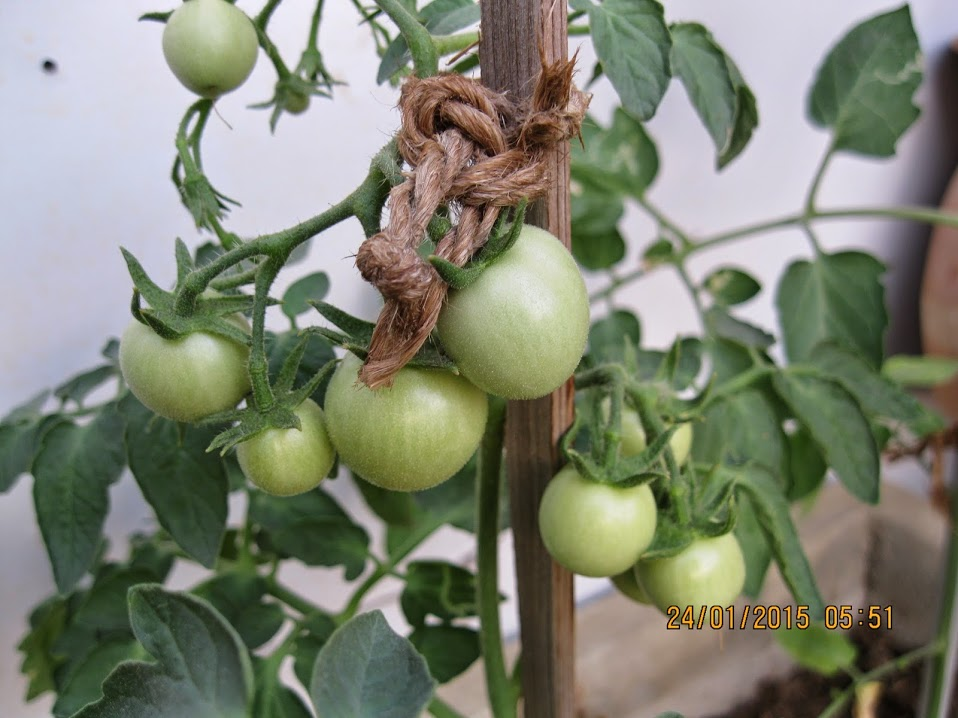tomato: (427, 216, 606, 395), (326, 351, 507, 476), (112, 280, 266, 416), (534, 444, 655, 580), (644, 523, 753, 619), (237, 391, 338, 494), (162, 4, 266, 100)
